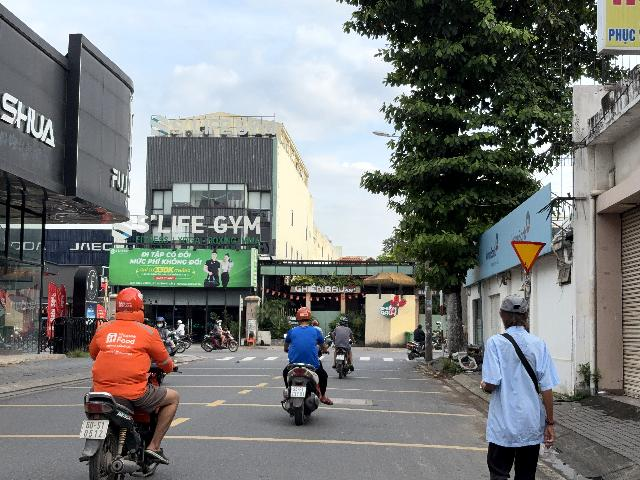giao-nhau-voi-duong-uu-tien: (510, 240, 546, 272)
